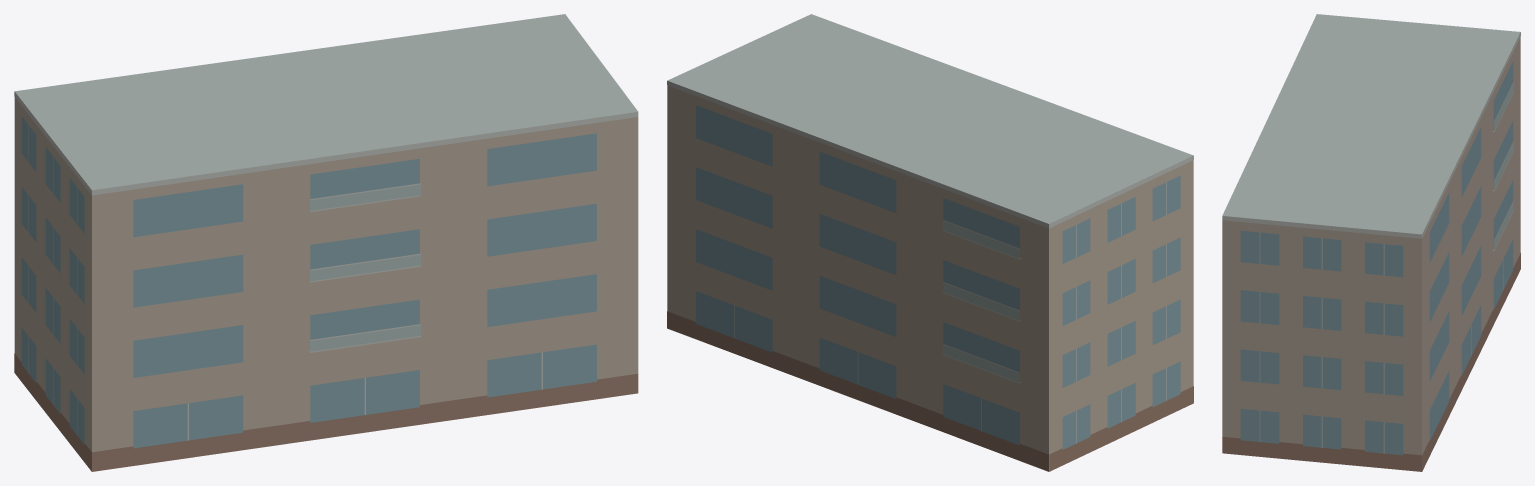
The model's file is survey-upis-32926040.glb.
3 renders of one model, left to right at view 1: azimuth 30°, elevation 25°; view 2: azimuth 150°, elevation 25°; view 3: azimuth 270°, elevation 25°, orthographic. The views are drawn at different scales.
Parts seen in each view (by area): view 1: survey-upis-32926040.tmp; view 2: survey-upis-32926040.tmp; view 3: survey-upis-32926040.tmp.
Boxes of the visible parts, x1,y1,x2,y2 form: survey-upis-32926040.tmp: (14, 14, 638, 471); survey-upis-32926040.tmp: (667, 14, 1193, 471); survey-upis-32926040.tmp: (1222, 14, 1520, 471).
Size of the model in its own units: 26.49 by 13.3 by 15.16.
